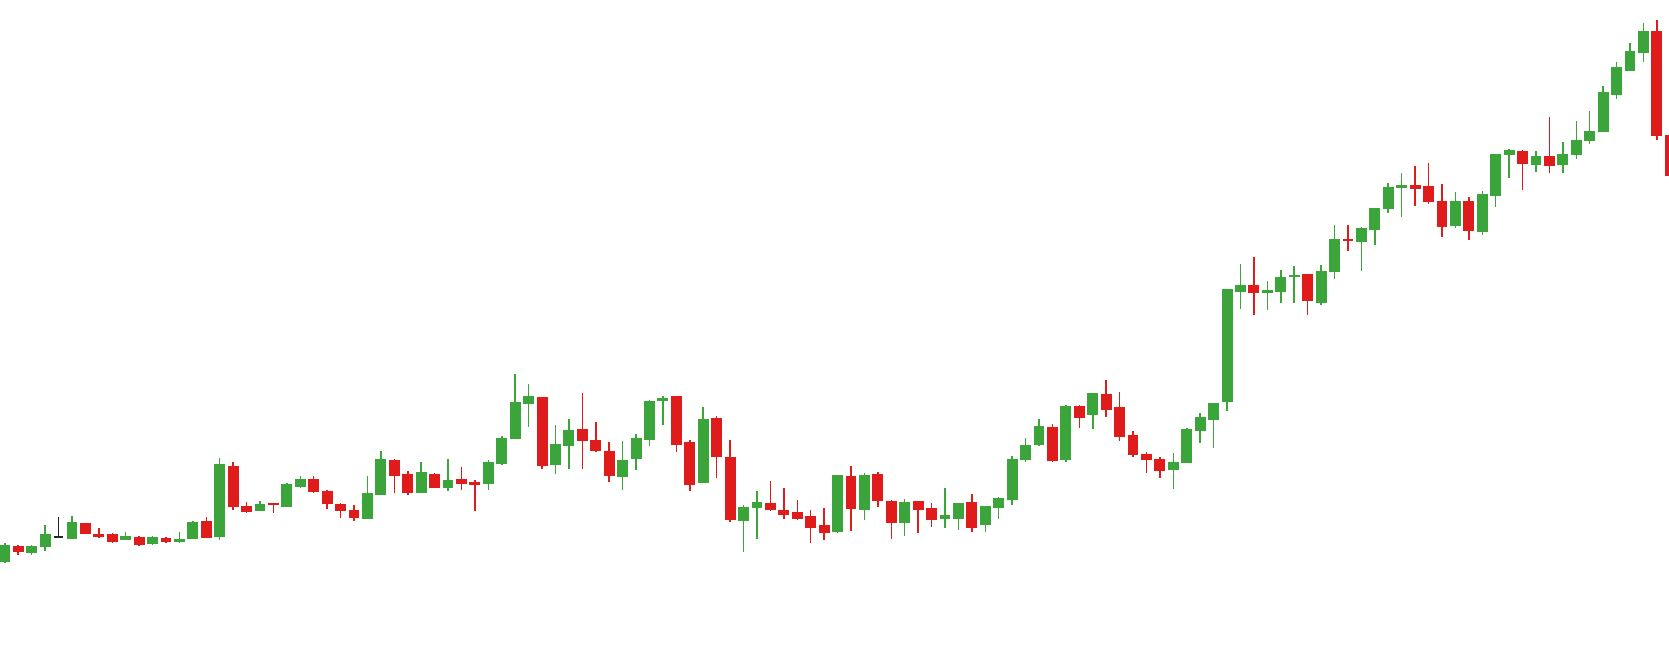buy: (1045, 411, 1196, 490)
